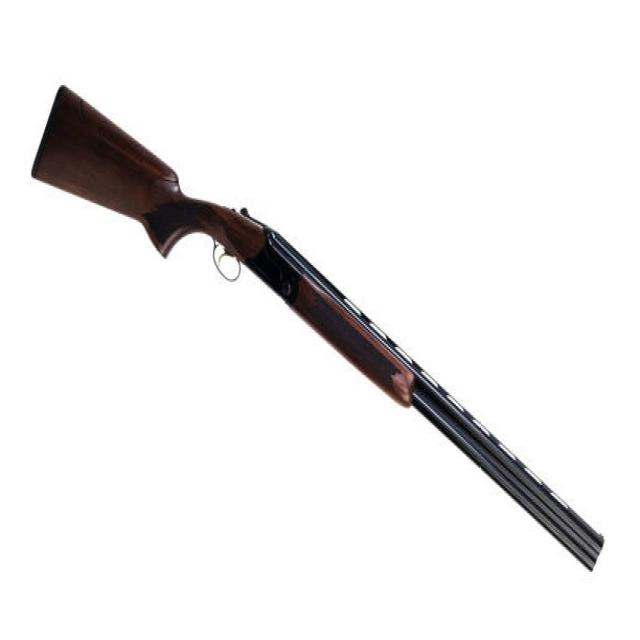rifle: (21, 72, 613, 586)
